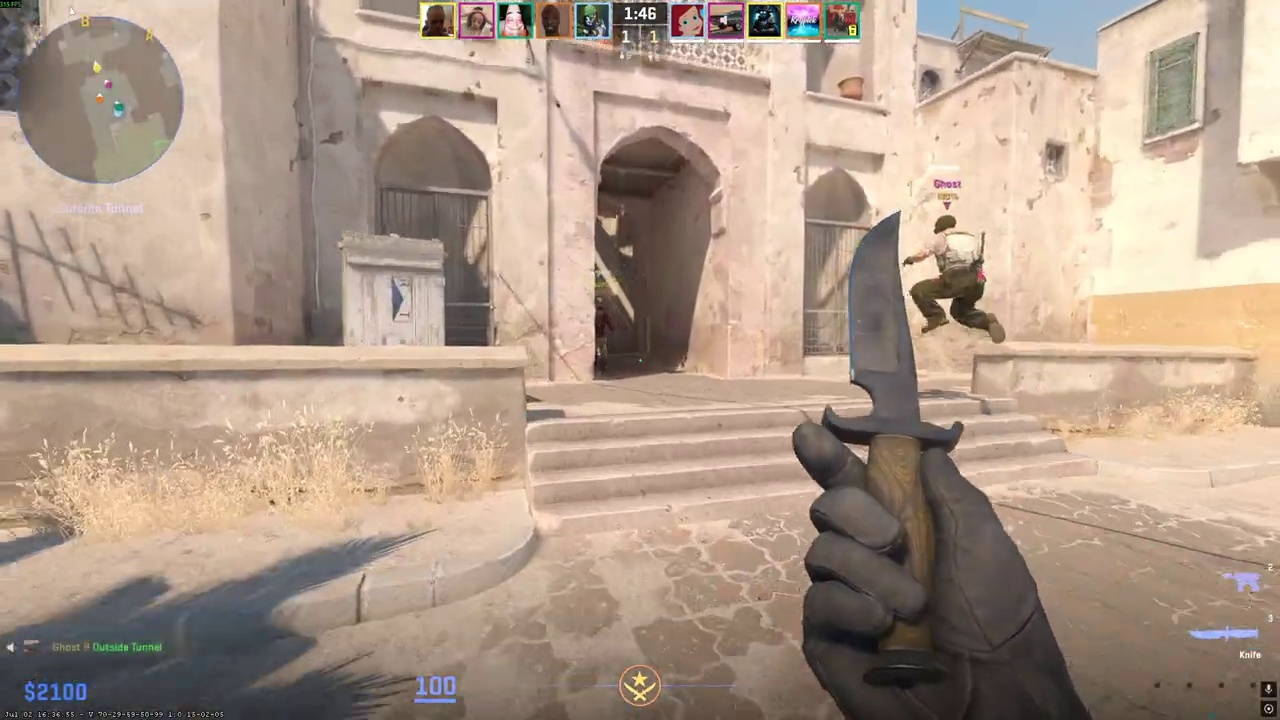Terrorist: (907, 215, 1001, 344), (594, 307, 610, 375)
